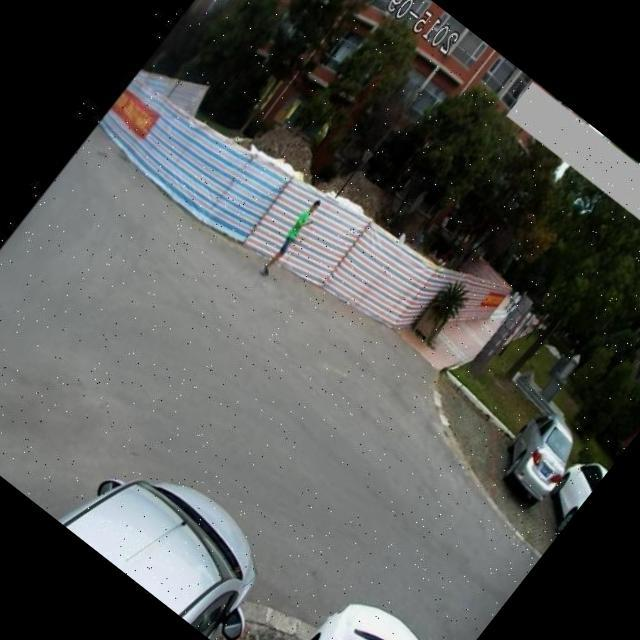person: (252, 192, 330, 285)
